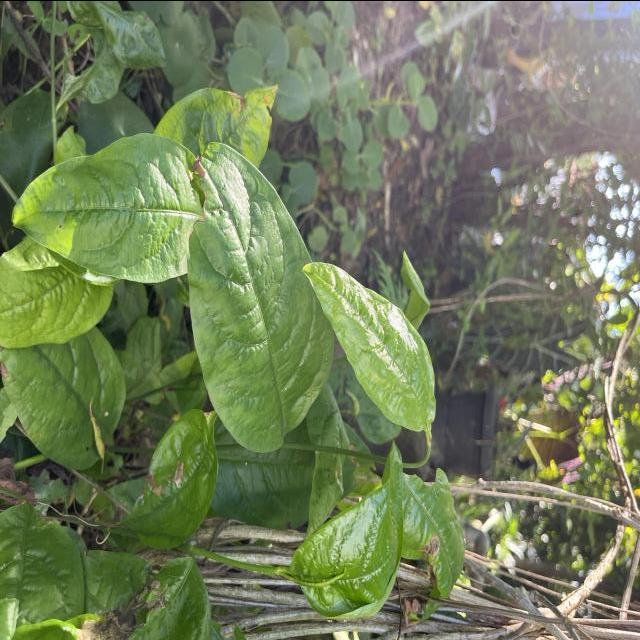Plumbago indica: (184, 124, 340, 458), (10, 125, 203, 288), (300, 252, 440, 434), (284, 438, 411, 622), (0, 322, 127, 468)
